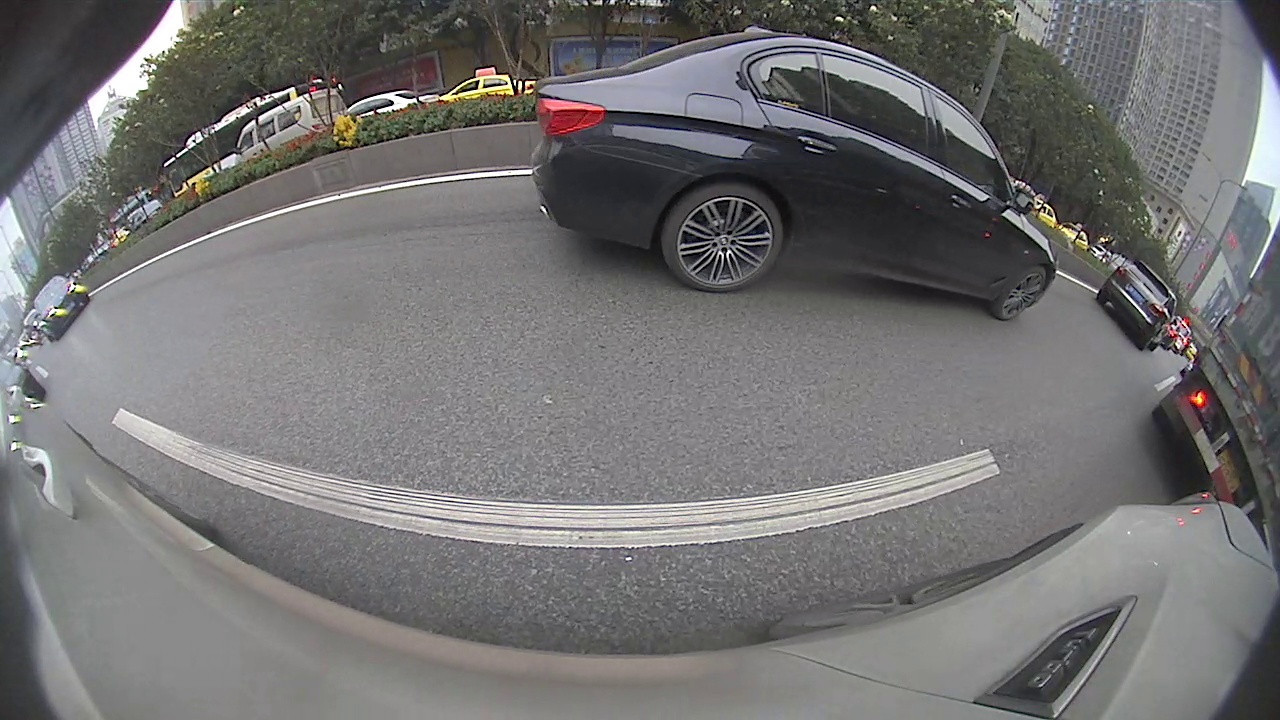car: (449, 159, 543, 218), (656, 147, 730, 198), (413, 166, 470, 217)
front: (535, 184, 544, 201)
person: (758, 152, 771, 179), (772, 152, 783, 182)
rear: (510, 186, 523, 209)
